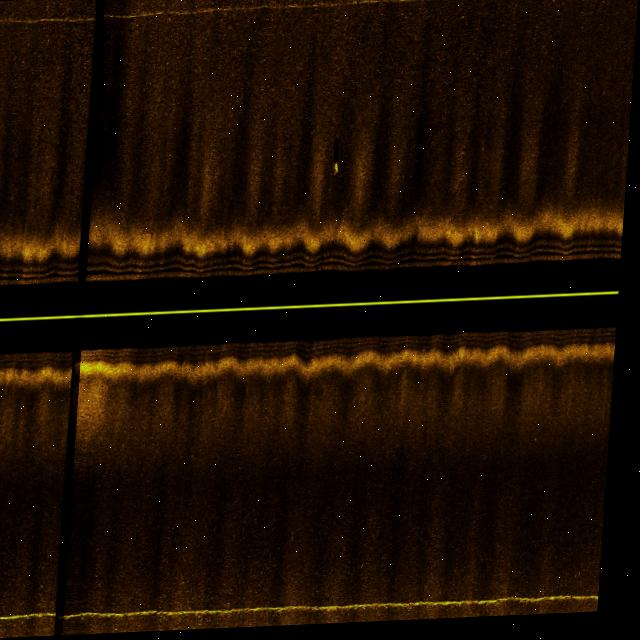mine: (329, 136, 349, 181)
